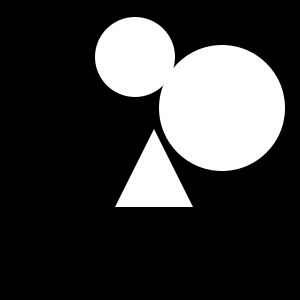rectangle: (159, 45, 285, 171), (95, 17, 175, 97)
triangle: (115, 129, 193, 207)
